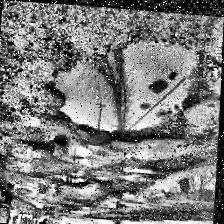pothole: (44, 26, 216, 150), (50, 138, 96, 167), (12, 143, 41, 163), (7, 181, 41, 197), (58, 171, 90, 187)
